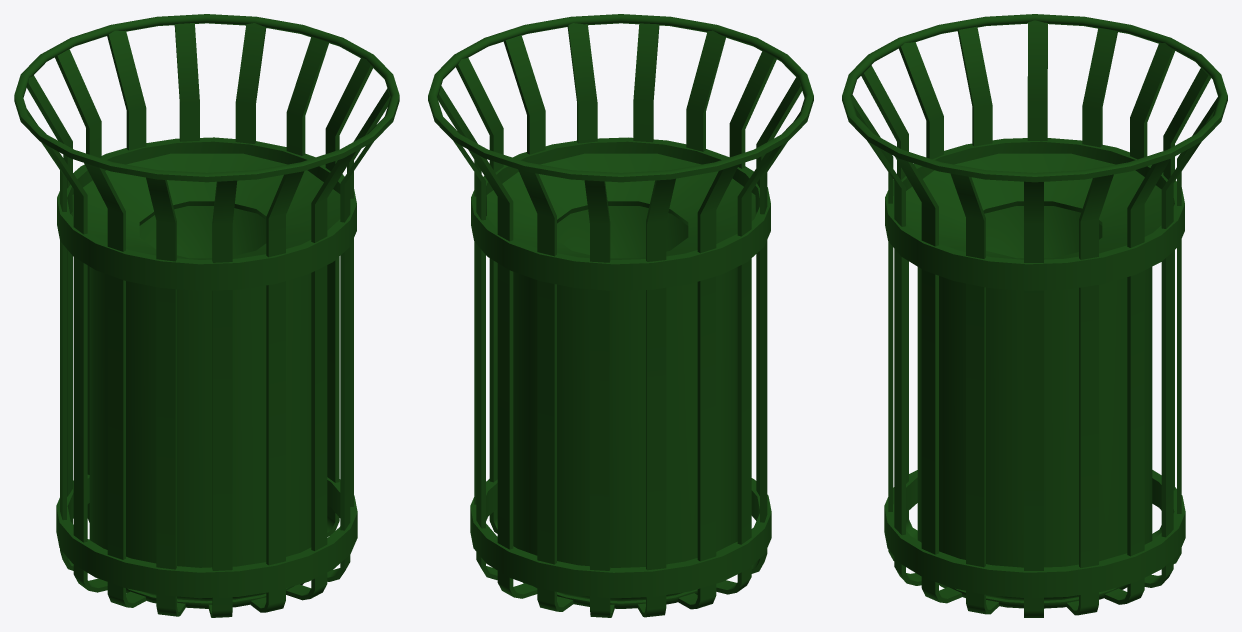
The model's file is Trashmid.fbx.
3 views of the same model, side by side, from view 1: azimuth 30°, elevation 25°; view 2: azimuth 150°, elevation 25°; view 3: azimuth 270°, elevation 25° (orthographic).
Parts seen in each view (by area): view 1: Trash; view 2: Trash; view 3: Trash.
Part boxes in pixels (left/top/right/bottom): Trash: left=14, top=14, right=399, bottom=617; Trash: left=428, top=14, right=813, bottom=617; Trash: left=842, top=14, right=1227, bottom=617.
Bounding box in the file's own units: 68.17 × 91.49 × 68.17.
